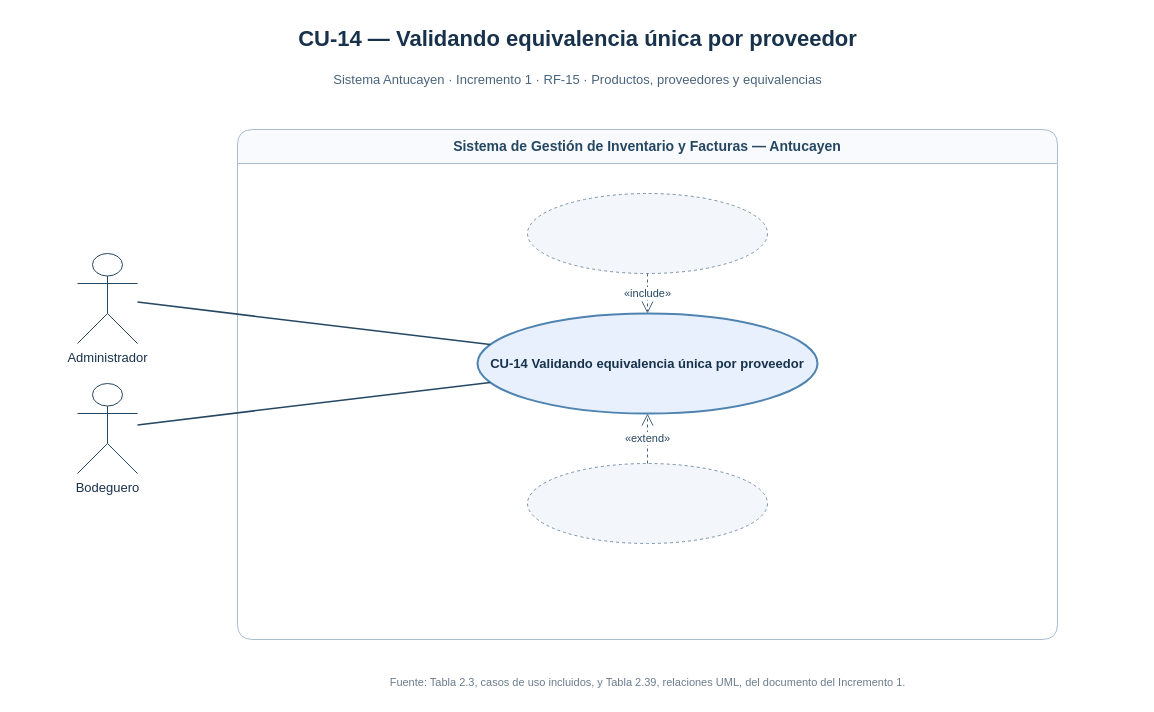
The diagram is 1154 pixels wide and 712 high, and some of its shapes have lost their labels. The centre of each missing label's shape, as x and y in pixels:
CU-11 Mapeando código interno de proveedor: (x=647, y=233)
CU-15 Controlando alerta de equivalencia duplicada: (x=647, y=503)
